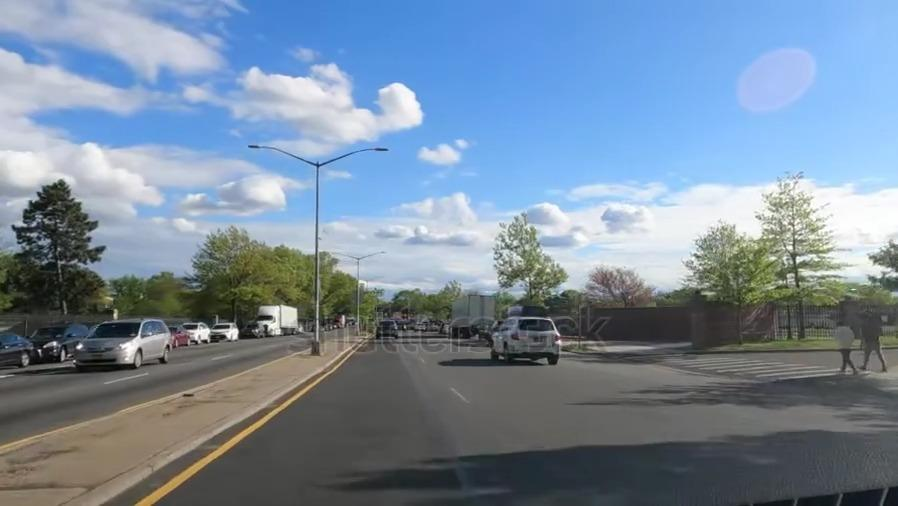car: (82, 317, 174, 367), (35, 327, 82, 360), (0, 324, 31, 369), (163, 327, 192, 348), (185, 319, 210, 342), (209, 316, 228, 337), (243, 323, 260, 339)
pedestrian: (652, 354, 896, 393)
person: (861, 297, 893, 376), (833, 315, 856, 377)
truck: (495, 317, 563, 363), (444, 298, 498, 327), (260, 304, 300, 334), (375, 319, 402, 341)
